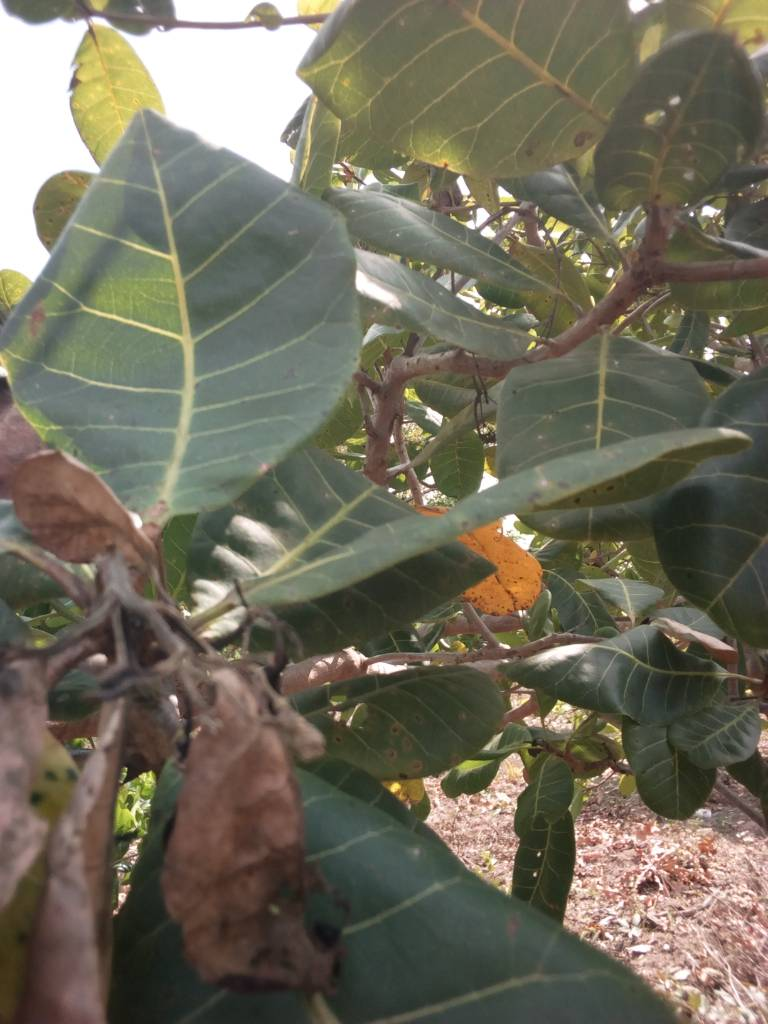Dessèchement des bourgeons: (57, 588, 204, 720)
